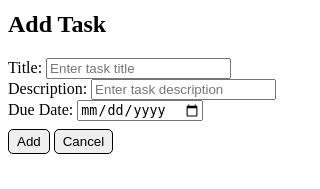
Test: AddTask › shows error if title is empty
What coordinates should you click on to do the following:
click the button with test id "add-button"
I would click on:
 (29, 142)
Its box is [8,129,50,154].
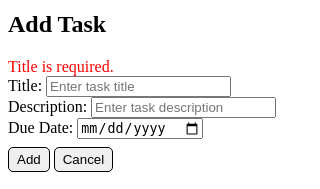
Check: the text "Title is required." is shown, box [8,58,114,75]
